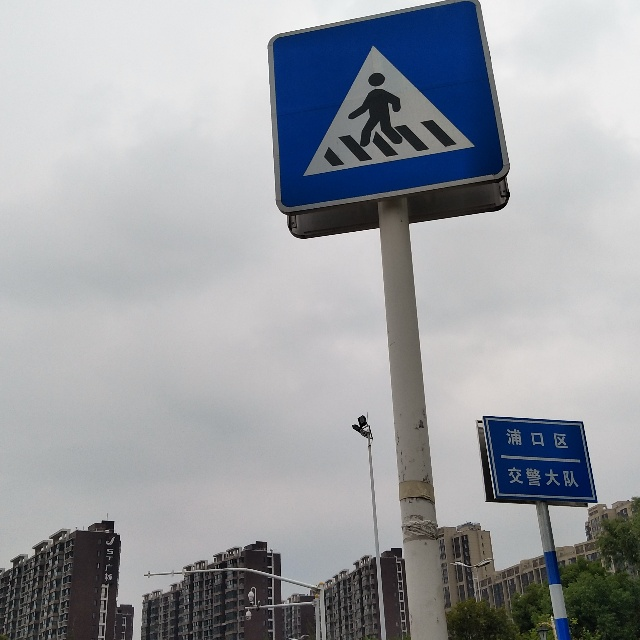crosswalk: (279, 29, 477, 177)
